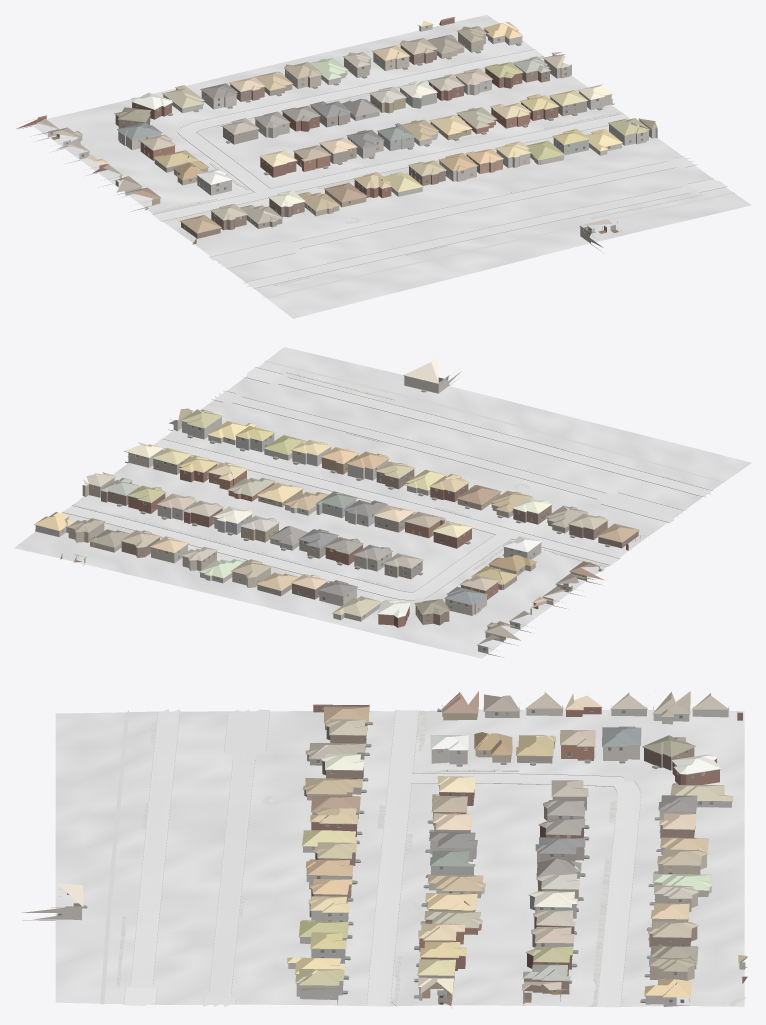
3 views of the same model, one above another, from view 1: azimuth 30°, elevation 25°; view 2: azimuth 150°, elevation 25°; view 3: azimuth 270°, elevation 25° (orthographic). The views are drawn at different scales.
Parts seen in each view (by area): view 1: ground, roof, wall, asphalt, concrete, curb, wall_stucco, detail, wall_stone, walk, glass, mark_w; view 2: ground, roof, wall, asphalt, concrete, wall_stucco, curb, detail, wall_stone, walk, glass; view 3: ground, roof, concrete, asphalt, wall, detail, walk, wall_stucco, wall_stone, curb, mark_w, glass (+2 smaller).
Boxes of the visible parts, x1=… form: ground: x1=31, y1=15, x2=751, y2=318; roof: x1=33, y1=20, x2=657, y2=233; wall: x1=16, y1=17, x2=586, y2=244; asphalt: x1=210, y1=157, x2=726, y2=287; concrete: x1=153, y1=49, x2=630, y2=221; curb: x1=152, y1=49, x2=727, y2=289; wall_stucco: x1=65, y1=48, x2=657, y2=251; detail: x1=25, y1=17, x2=657, y2=238; wall_stone: x1=35, y1=24, x2=648, y2=196; walk: x1=151, y1=17, x2=735, y2=297; glass: x1=50, y1=37, x2=642, y2=235; mark_w: x1=209, y1=157, x2=738, y2=287; ground: x1=14, y1=347, x2=751, y2=658; roof: x1=34, y1=357, x2=639, y2=644; wall: x1=60, y1=455, x2=638, y2=627; asphalt: x1=214, y1=367, x2=711, y2=522; concrete: x1=63, y1=439, x2=619, y2=600; wall_stucco: x1=90, y1=371, x2=582, y2=632; curb: x1=62, y1=367, x2=712, y2=600; detail: x1=34, y1=372, x2=644, y2=652; wall_stone: x1=35, y1=417, x2=541, y2=657; walk: x1=18, y1=360, x2=725, y2=587; glass: x1=112, y1=377, x2=626, y2=650; ground: x1=55, y1=709, x2=744, y2=1006; roof: x1=57, y1=691, x2=747, y2=997; concrete: x1=367, y1=710, x2=640, y2=1007; asphalt: x1=124, y1=709, x2=269, y2=1006; wall: x1=304, y1=704, x2=747, y2=1005; detail: x1=51, y1=705, x2=746, y2=1002; walk: x1=100, y1=710, x2=745, y2=1006; wall_stucco: x1=22, y1=705, x2=706, y2=1004; wall_stone: x1=296, y1=708, x2=745, y2=1008; curb: x1=124, y1=709, x2=641, y2=1006; mark_w: x1=56, y1=710, x2=419, y2=1006; glass: x1=58, y1=706, x2=713, y2=1002.
Size of the model in its own units: 264 by 13.19 by 268.
